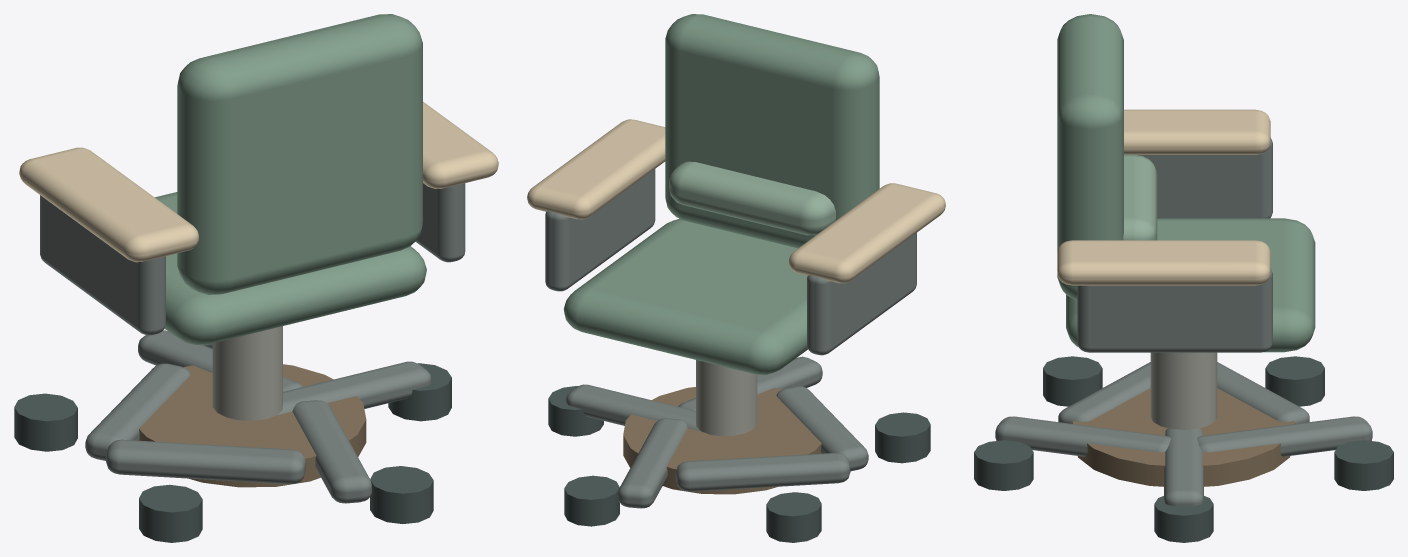
The model's file is chair.glb.
3 views of the same model, side by side, from view 1: azimuth 30°, elevation 25°; view 2: azimuth 150°, elevation 25°; view 3: azimuth 270°, elevation 25° (orthographic). The views are drawn at different scales.
Visible parts, largest first — view 1: chair-ergonomic; view 2: chair-ergonomic; view 3: chair-ergonomic.
Boxes of the visible parts, x1=… form: chair-ergonomic: x1=14, y1=14, x2=498, y2=542; chair-ergonomic: x1=527, y1=14, x2=945, y2=542; chair-ergonomic: x1=974, y1=14, x2=1393, y2=542.
Bounding box in the file's own units: 0.9 × 1 × 0.95.
